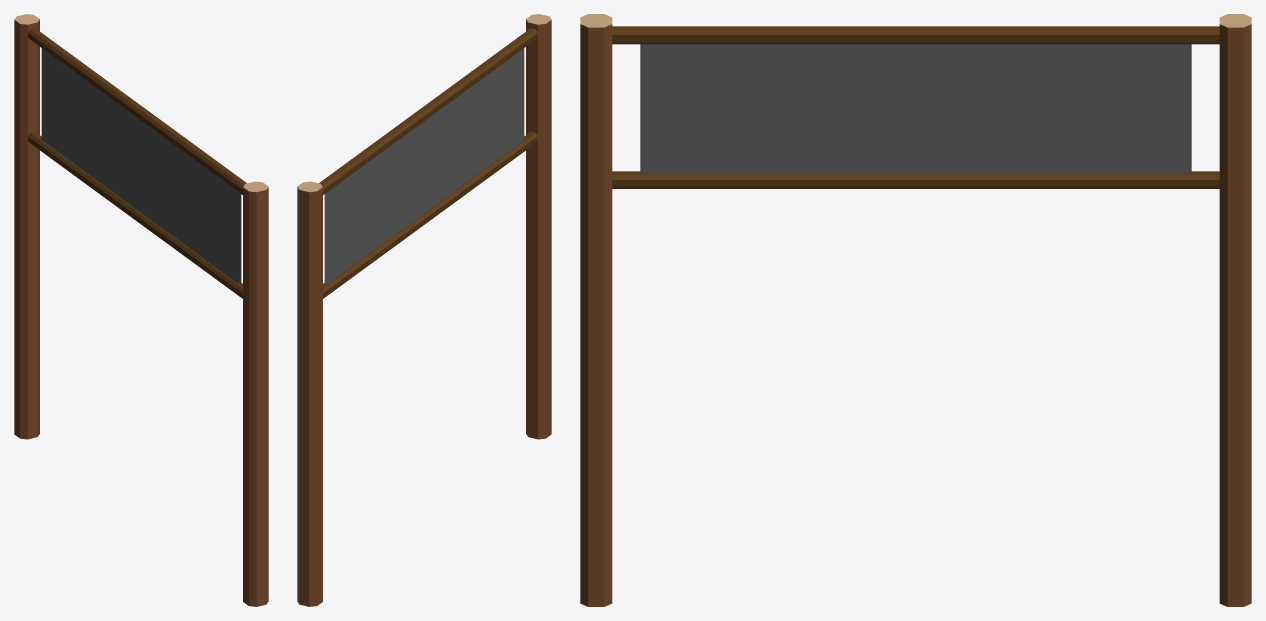
The model's file is Prop_Track_Banner_Finish_Line_Single_Blank.obj.
3 renders of one model, left to right at view 1: azimuth 30°, elevation 25°; view 2: azimuth 150°, elevation 25°; view 3: azimuth 270°, elevation 25°, orthographic. The views are drawn at different scales.
Parts seen in each view (by area): view 1: Flag_Pole_Side, Banner_Back, Flag_Rail, Flag_Pole_Top; view 2: Flag_Pole_Side, Banner_Back, Flag_Rail, Flag_Pole_Top; view 3: Banner_Front, Flag_Pole_Side, Flag_Rail.
Part boxes in pixels (x1=…): Flag_Pole_Side: x1=14, y1=19, x2=268, y2=606; Banner_Back: x1=41, y1=48, x2=238, y2=284; Flag_Rail: x1=28, y1=28, x2=246, y2=298; Flag_Pole_Top: x1=14, y1=14, x2=268, y2=192; Flag_Pole_Side: x1=297, y1=19, x2=551, y2=606; Banner_Back: x1=327, y1=48, x2=524, y2=284; Flag_Rail: x1=319, y1=28, x2=537, y2=298; Flag_Pole_Top: x1=297, y1=14, x2=551, y2=192; Banner_Front: x1=640, y1=44, x2=1191, y2=173; Flag_Pole_Side: x1=580, y1=24, x2=1251, y2=606; Flag_Rail: x1=612, y1=26, x2=1219, y2=188.
Bounding box in the file's own units: 0.1 × 2 × 2.1.
